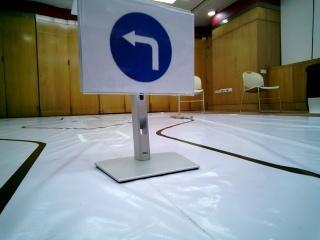left: (81, 2, 198, 98)
